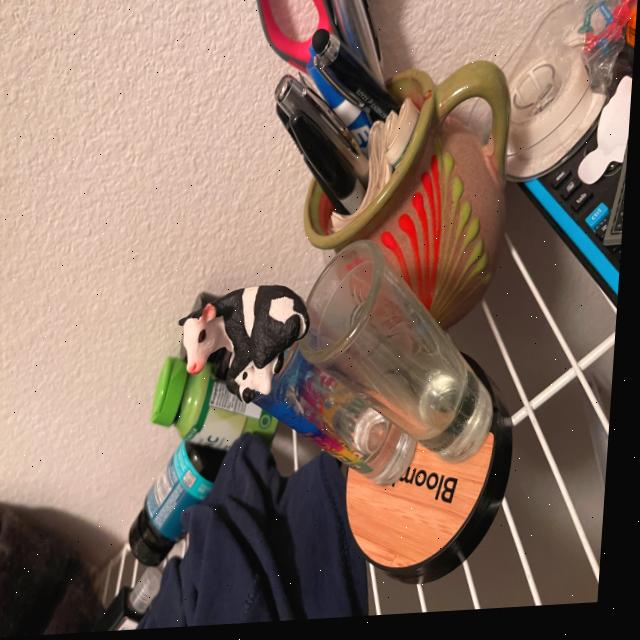cow: (164, 252, 327, 417)
